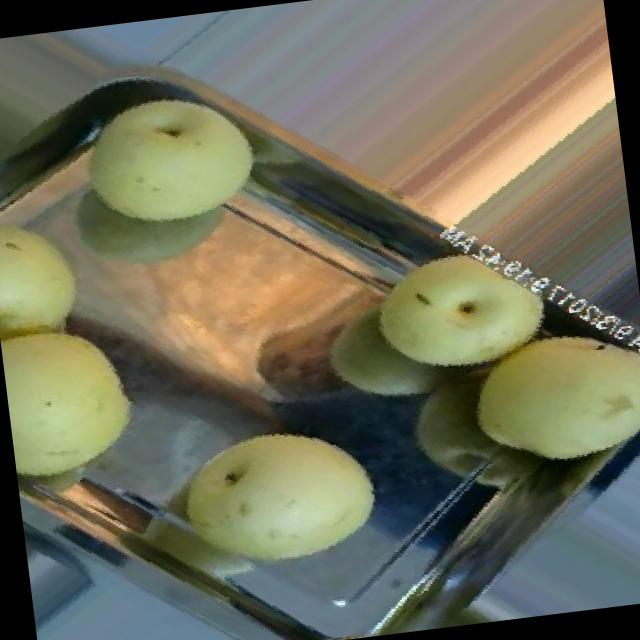Fruit: (40, 153, 431, 453), (53, 56, 288, 264), (159, 404, 395, 593), (350, 214, 579, 401), (448, 299, 640, 499), (0, 284, 163, 508)
